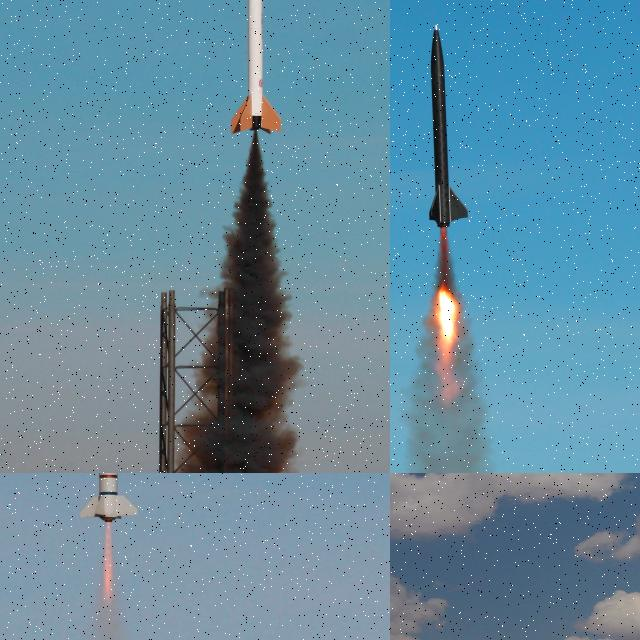Rocket: (427, 23, 470, 229), (229, 0, 284, 135), (77, 473, 141, 524)
